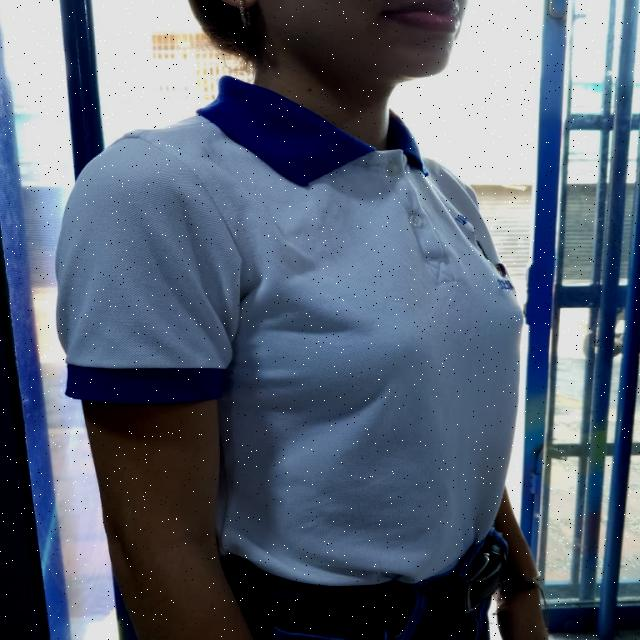uniforme_superior: (53, 74, 522, 587)
